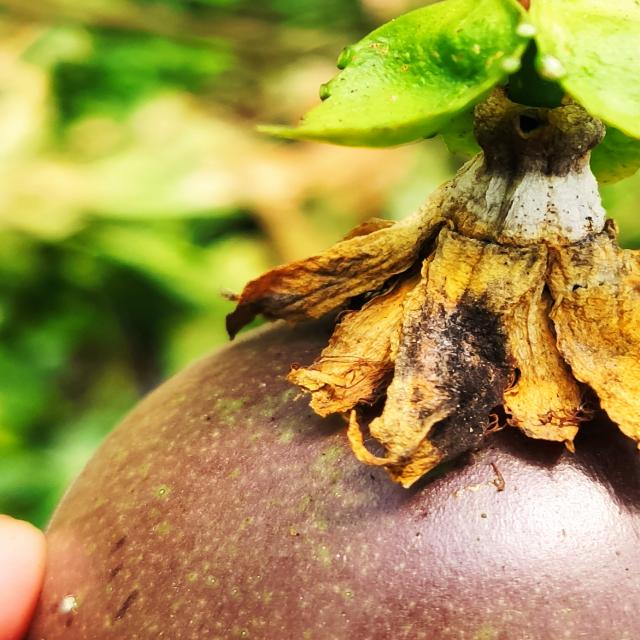Estado-4: (36, 96, 640, 640)
